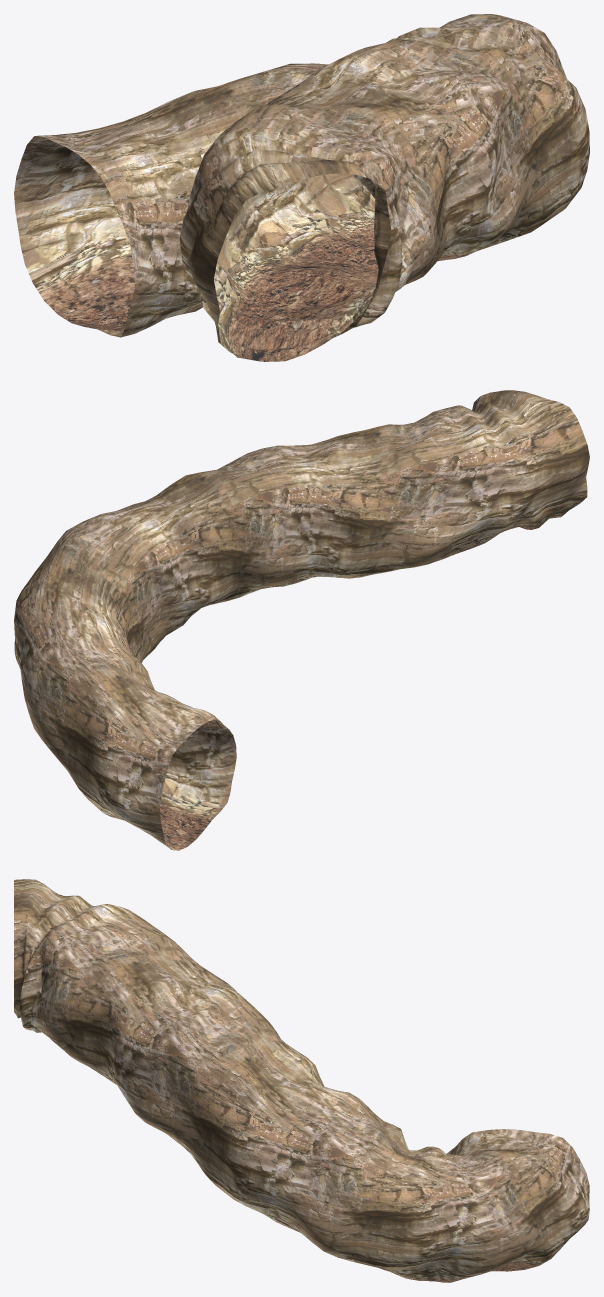
File: thm_tato_cave_s02_r2_mesh_r2.fbx
3 renders of one model, top to bottom at view 1: azimuth 30°, elevation 25°; view 2: azimuth 150°, elevation 25°; view 3: azimuth 270°, elevation 25°, orthographic. The views are drawn at different scales.
Parts seen in each view (by area): view 1: mesh_node; view 2: mesh_node; view 3: mesh_node.
Boxes of the visible parts, x1,y1,x2,y2 form: mesh_node: [14, 14, 589, 361]; mesh_node: [14, 390, 589, 850]; mesh_node: [14, 879, 589, 1282].
Size of the model in its own units: 33.78 by 24.61 by 41.77.
